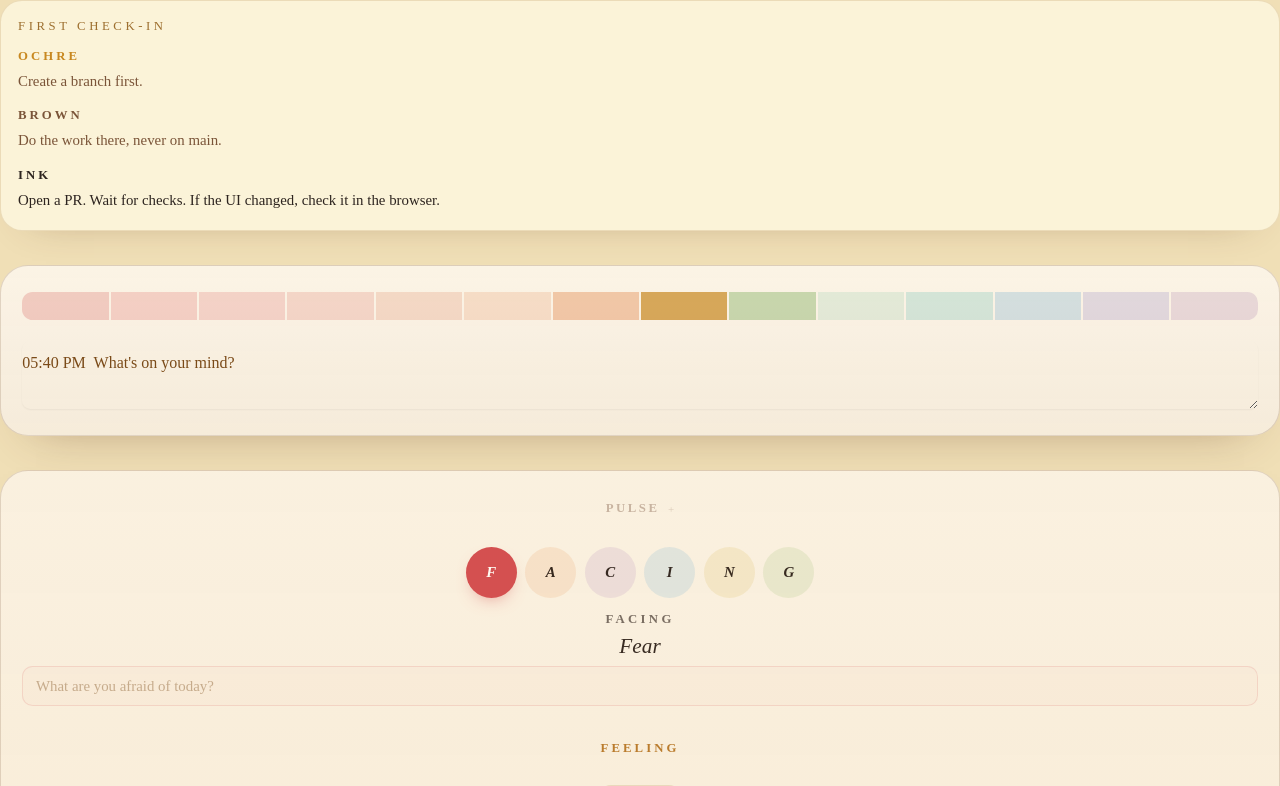
Test: CheckInForm › switches the active FACING tracker prompt family
Expected: the text "Fear" is shown, [619,634,661,658]
Expected: the field with placeholder "What are you afraid of today?" is shown, [22,666,1258,706]
What coordinates should you click on to do the following:
click the button named "Facing Need"
I would click on:
 (729, 573)
Its box is [704,547,755,598].
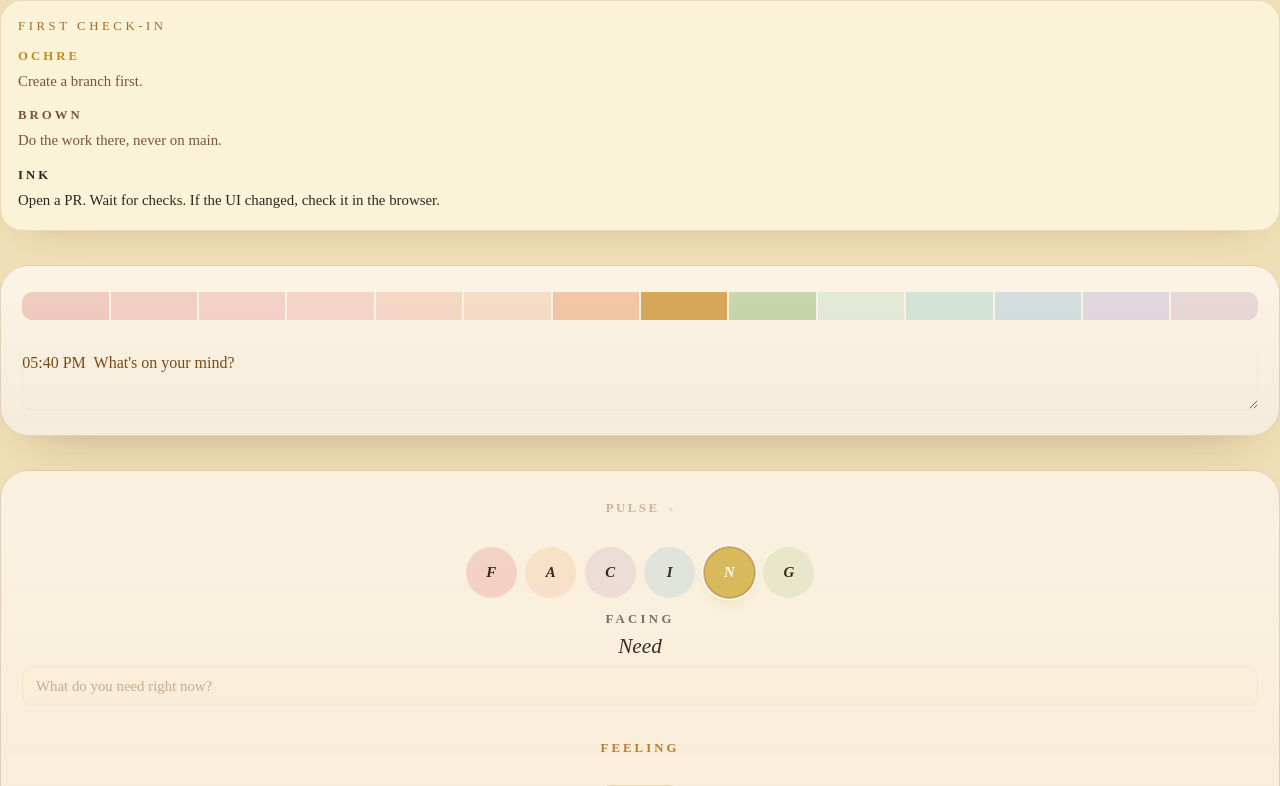
Now the text "Need" is shown, box [618,634,662,658]
Now the field with placeholder "What do you need right now?" is shown, box [22,666,1258,706]
